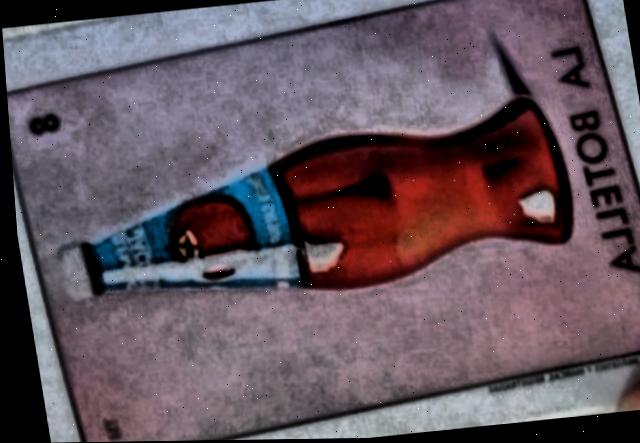La Botella: (5, 0, 640, 442)
